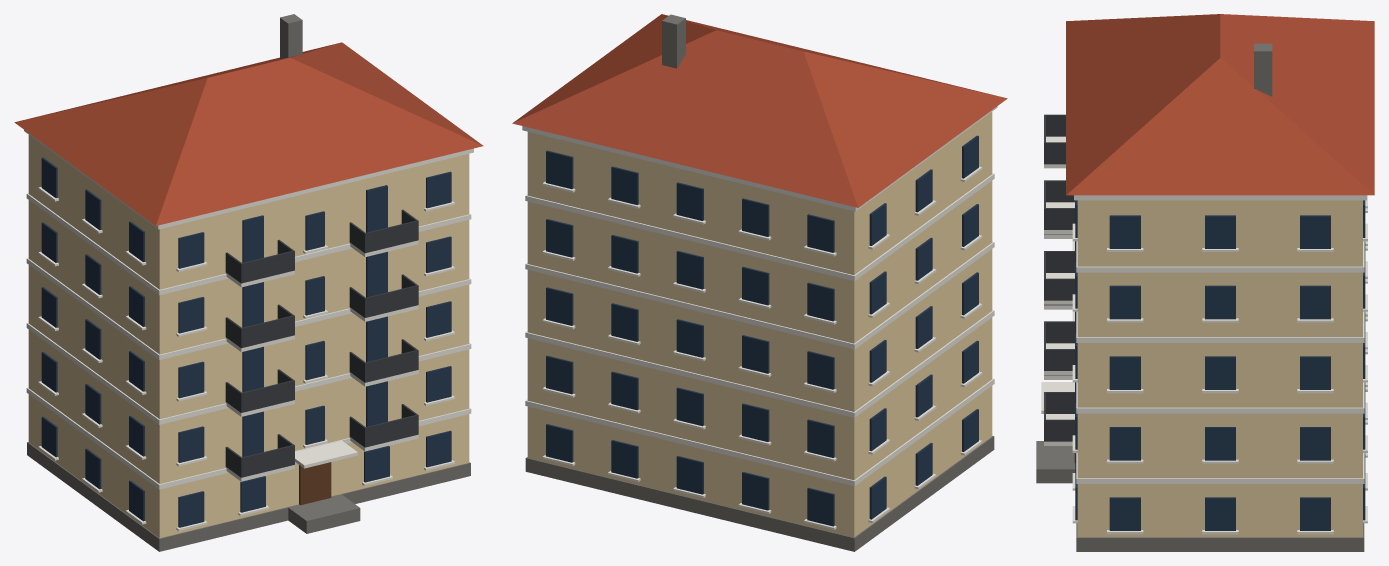
The model's file is Apartman_A.fbx.
3 renders of one model, left to right at view 1: azimuth 30°, elevation 25°; view 2: azimuth 150°, elevation 25°; view 3: azimuth 270°, elevation 25°, orthographic. The views are drawn at different scales.
Parts seen in each view (by area): view 1: Apartman_A; view 2: Apartman_A; view 3: Apartman_A.
Boxes of the visible parts, x1=… form: Apartman_A: x1=14, y1=14, x2=483, y2=551; Apartman_A: x1=512, y1=14, x2=1007, y2=551; Apartman_A: x1=1036, y1=14, x2=1374, y2=551.
Bounding box in the file's own units: 15.9 × 19.33 × 13.05.
